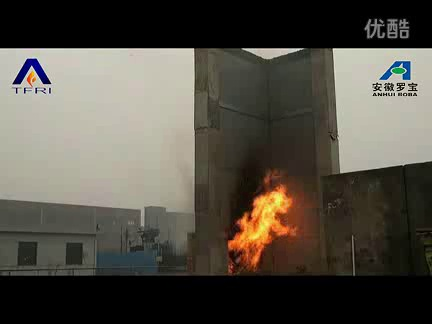fire: (228, 181, 299, 277)
